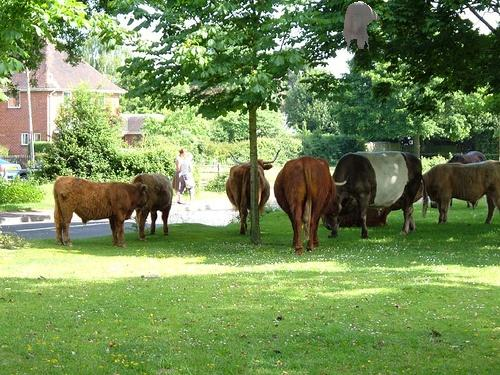tampered: (343, 2, 380, 51)
